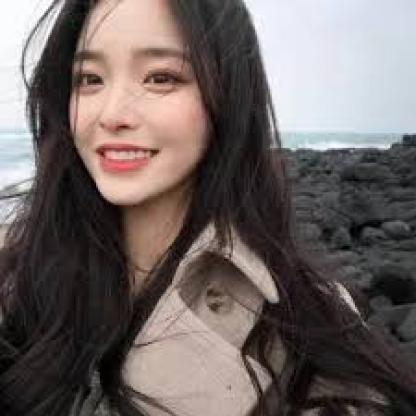person: (22, 0, 273, 205)
